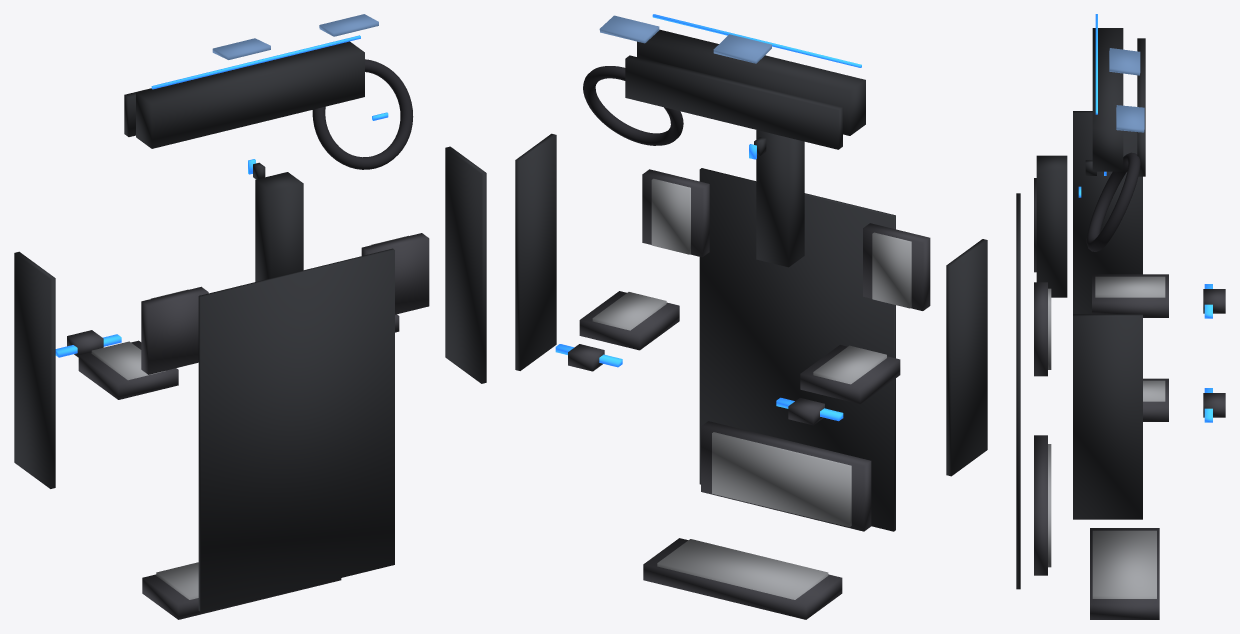
Rendered from interior.glb.
3 views of the same model, side by side, from view 1: azimuth 30°, elevation 25°; view 2: azimuth 150°, elevation 25°; view 3: azimuth 270°, elevation 25° (orthographic). The views are drawn at different scales.
Parts seen in each view (by area): view 1: floor, dash, doorcard0.86, doorcard-0.86, console, squab-0.44, wheel, squab0.44, back-0.44, rear_back, back_c-0.44, rear_back_c (+4 smaller); view 2: floor, dash_top, doorcard-0.86, doorcard0.86, rear_squab_c, dash, console, rear_back_c, rear_back, rear_squab, squab_c0.44, squab_c-0.44 (+12 smaller); view 3: doorcard0.86, doorcard-0.86, rear_back_c, console, dash, wheel, rear_back, floor, rear_squab, back-0.44, back_c-0.44, squab0.44 (+10 smaller).
Part boxes in pixels (x1,y1,x2,y2): floor: (198,248,394,611); dash: (136,41,364,148); doorcard0.86: (445,146,486,383); doorcard-0.86: (14,251,55,488); console: (255,172,303,281); squab-0.44: (141,286,208,374); wheel: (312,59,413,169); squab0.44: (361,233,429,314); back-0.44: (78,340,178,399); rear_back: (142,574,341,619); back_c-0.44: (91,341,165,380); rear_back_c: (156,562,198,599); floor: (699,168,895,531); dash_top: (625,55,842,149); doorcard-0.86: (946,239,987,476); doorcard0.86: (515,133,556,370); rear_squab_c: (712,432,851,527); dash: (637,29,865,135); console: (756,130,804,267); rear_back_c: (657,539,828,599); rear_back: (643,538,842,619); rear_squab: (701,421,871,531); squab_c0.44: (651,178,690,254); squab_c-0.44: (872,232,911,308); doorcard0.86: (1073,314,1142,519); doorcard-0.86: (1073,111,1142,314); rear_back_c: (1092,530,1156,598); console: (1036,155,1067,297); dash: (1092,28,1123,171); wheel: (1086,152,1140,251); rear_back: (1090,528,1159,619); floor: (1016,193,1020,589); rear_squab: (1034,435,1047,575); back-0.44: (1092,274,1168,317); back_c-0.44: (1095,276,1165,297); squab0.44: (1034,282,1047,376).
Size of the model in its own units: 1.74 by 2.07 by 0.7475.
